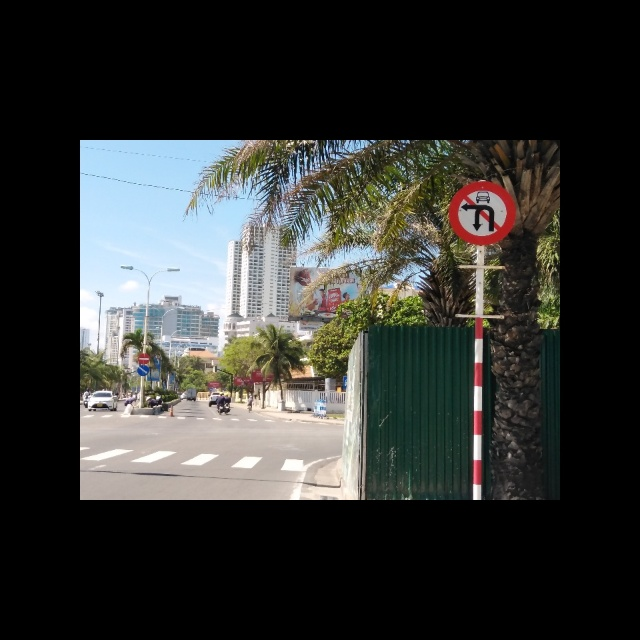Cấm xe ô tô quay đầu và rẽ trái: (450, 180, 517, 248)
